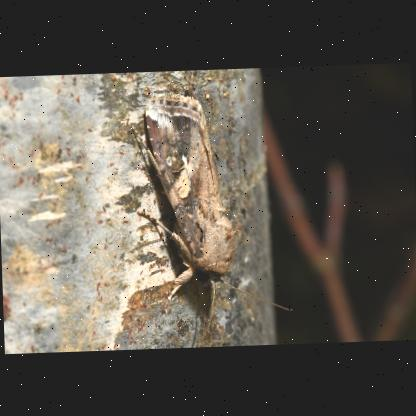Fall Armyworm Moth: (127, 79, 295, 348)
